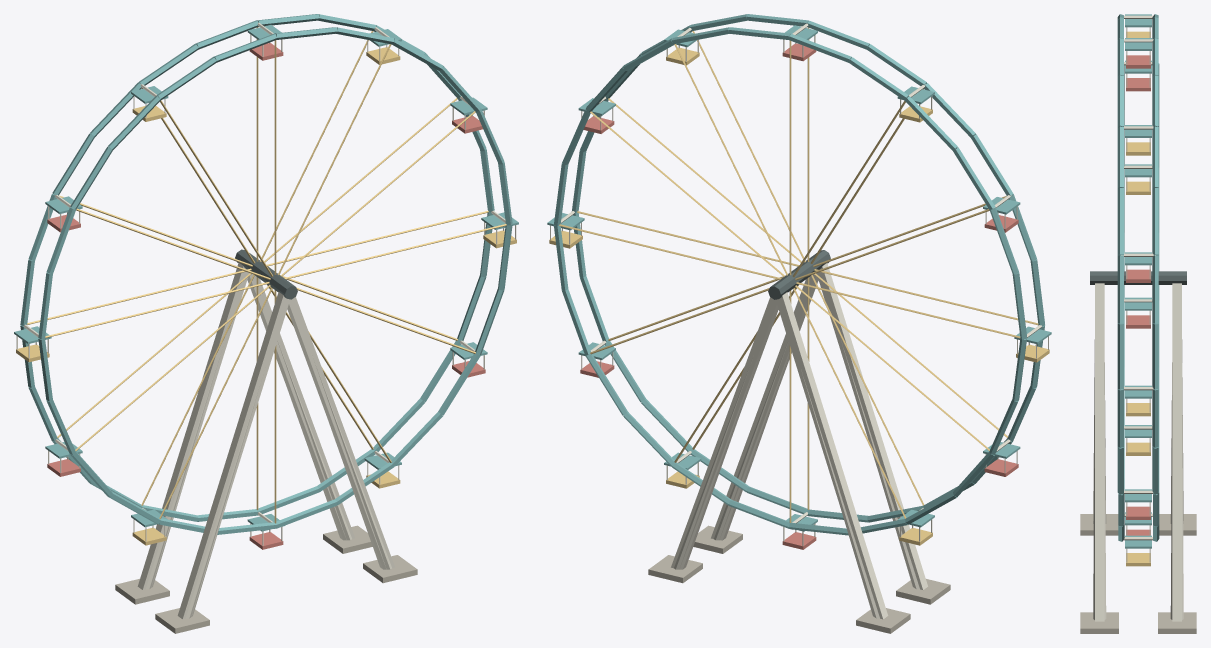
3 renders of one model, left to right at view 1: azimuth 30°, elevation 25°; view 2: azimuth 150°, elevation 25°; view 3: azimuth 270°, elevation 25°, orthographic. The views are drawn at different scales.
Bounding box in the file's own units: 56.7 × 62.03 × 12.
